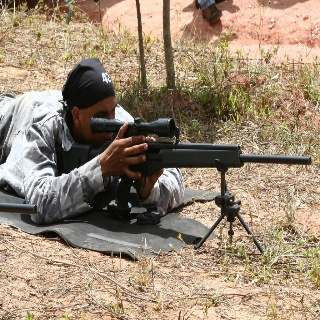rifle: (54, 116, 314, 256)
